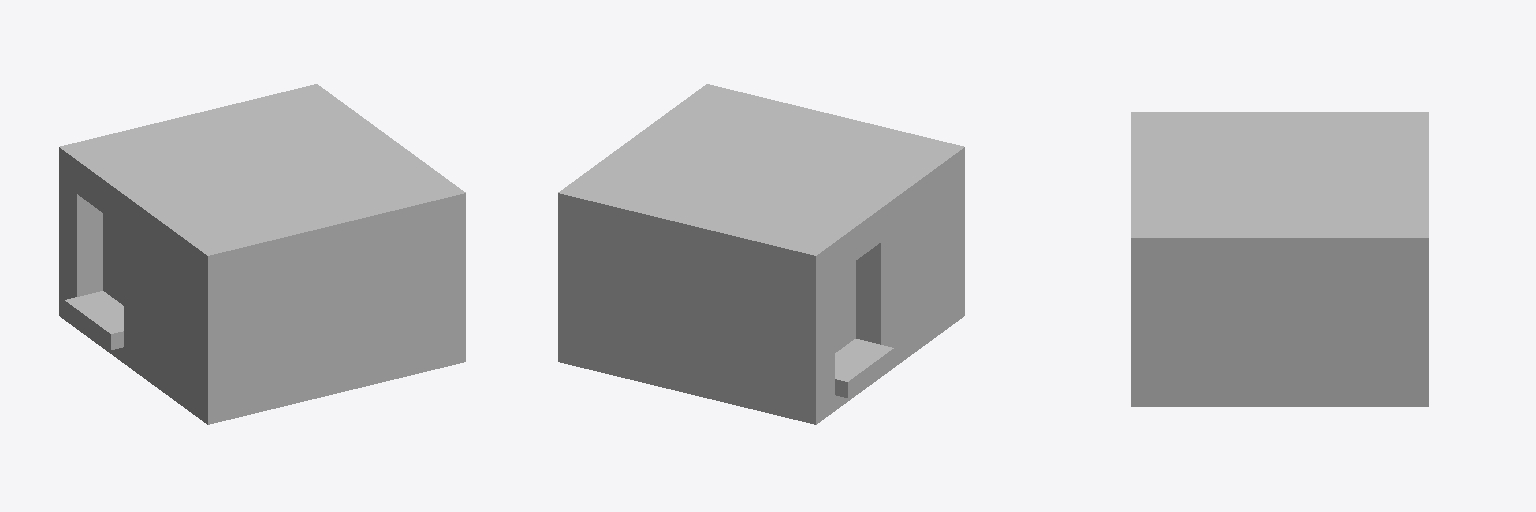
The picture shows the model from 3 angles: view 1: azimuth 30°, elevation 25°; view 2: azimuth 150°, elevation 25°; view 3: azimuth 270°, elevation 25°; orthographic projection.
Parts seen in each view (by area): view 1: G-__556113_G-__556113_Brick, G-__556113_G-__556113_Glass; view 2: G-__556113_G-__556113_Brick, G-__556113_G-__556113_Glass; view 3: G-__556113_G-__556113_Brick.
Part boxes in pixels (bbox=[...]): G-__556113_G-__556113_Brick: bbox=[59, 84, 465, 424]; G-__556113_G-__556113_Glass: bbox=[103, 213, 123, 305]; G-__556113_G-__556113_Brick: bbox=[558, 84, 964, 424]; G-__556113_G-__556113_Glass: bbox=[835, 261, 855, 352]; G-__556113_G-__556113_Brick: bbox=[1131, 112, 1428, 406].
Bounding box in the file's own units: 1.05 × 0.625 × 1.